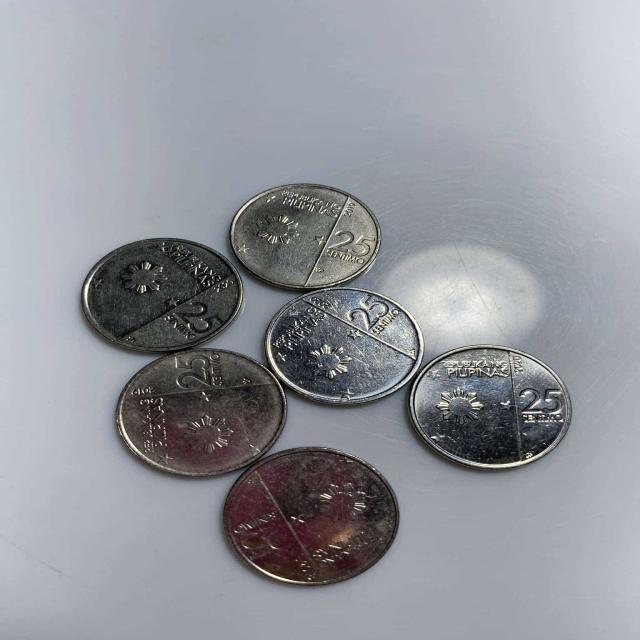25Cent_New_Front: (348, 290, 392, 332), (170, 354, 219, 391), (243, 523, 286, 556), (519, 386, 565, 413), (180, 304, 221, 333), (331, 230, 372, 256)
